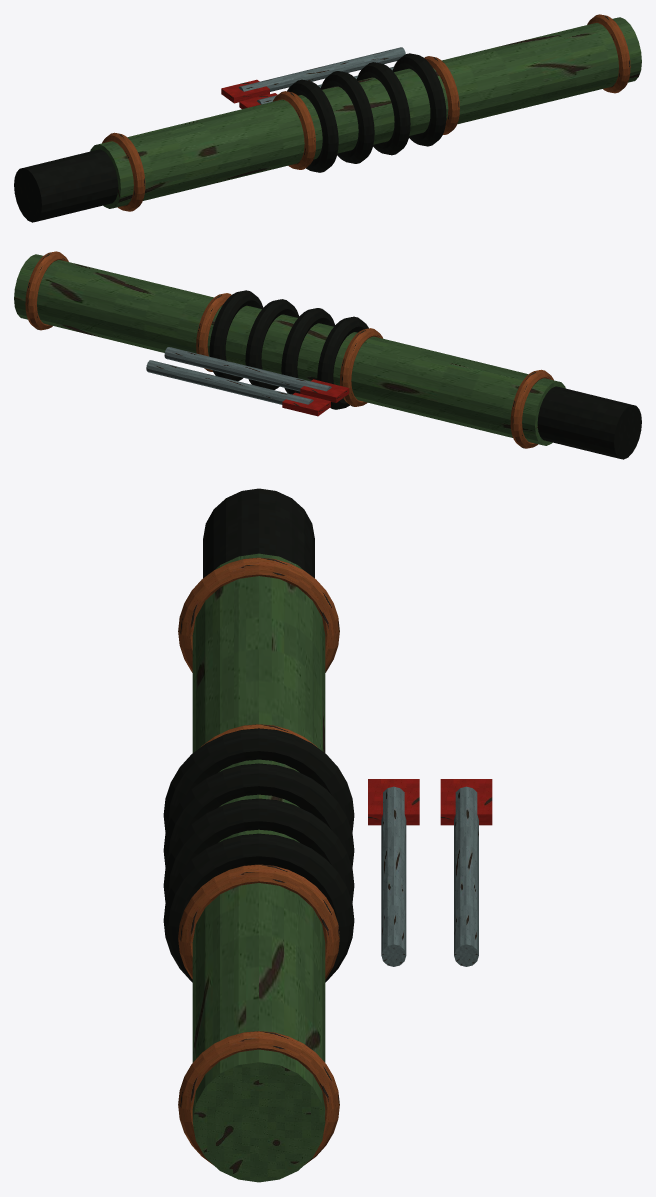
Rendered from eq-dartpipe.glb.
3 views of the same model, one above another, from view 1: azimuth 30°, elevation 25°; view 2: azimuth 150°, elevation 25°; view 3: azimuth 270°, elevation 25° (orthographic). The views are drawn at different scales.
Visible parts, largest first — view 1: Pipe, Mouthpiece, Grip ring.001, Grip ring.003, Grip ring.002, Grip ring, Spare dart.001, Ferrule, Ferrule.003, Ferrule.001, Ferrule.002, Dart fin.001; view 2: Pipe, Mouthpiece, Spare dart.001, Spare dart, Grip ring.002, Grip ring.003, Grip ring.001, Grip ring, Ferrule, Ferrule.003, Ferrule.001, Ferrule.002 (+2 smaller); view 3: Pipe, Grip ring.003, Mouthpiece, Grip ring.002, Grip ring, Grip ring.001, Ferrule.003, Ferrule.002, Ferrule, Spare dart, Spare dart.001, Dart fin.001 (+1 smaller).
Boxes of the visible parts, x1,y1,x2,y2 form: Pipe: (90,17,641,208); Mouthpiece: (14,149,118,222); Grip ring.001: (321,71,374,163); Grip ring.003: (392,53,446,146); Grip ring.002: (356,62,410,155); Grip ring: (287,79,338,172); Spare dart.001: (238,47,405,91); Ferrule: (102,132,145,211); Ferrule.003: (587,14,630,93); Ferrule.001: (273,91,315,169); Ferrule.002: (424,56,459,134); Dart fin.001: (221,79,269,103); Pipe: (14,254,565,445); Mouthpiece: (537,386,641,459); Spare dart.001: (146,360,313,404); Spare dart: (164,347,331,391); Grip ring.002: (245,299,299,389); Grip ring.003: (209,290,263,381); Grip ring.001: (281,308,334,394); Grip ring: (317,316,368,409); Ferrule: (510,369,553,448); Ferrule.003: (25,251,68,330); Ferrule.001: (340,328,382,406); Ferrule.002: (196,293,231,371); Pipe: (192,553,325,1182); Grip ring.003: (163,833,354,982); Mouthpiece: (203,488,314,578); Grip ring.002: (163,798,354,902); Grip ring: (163,728,354,832); Grip ring.001: (163,763,354,867); Ferrule.003: (178,1031,339,1165); Ferrule.002: (178,864,339,979); Ferrule: (178,557,339,672); Spare dart: (381,786,406,966); Spare dart.001: (454,786,478,966); Dart fin.001: (440,779,492,825).
Size of the model in its own units: 0.665 by 0.092 by 0.1585.
5 materials, 5 textured.
